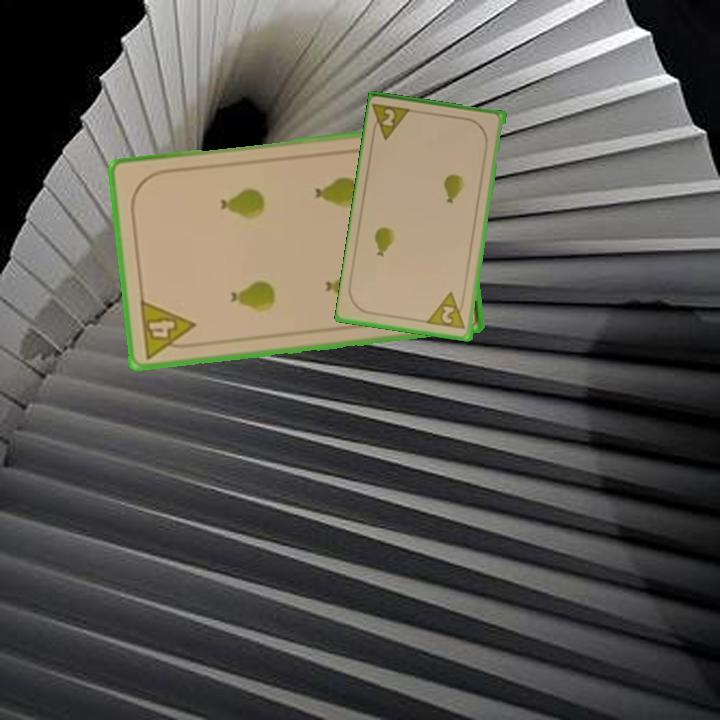2p: (369, 100, 416, 143), (425, 289, 469, 332)
4p: (136, 296, 200, 361)
